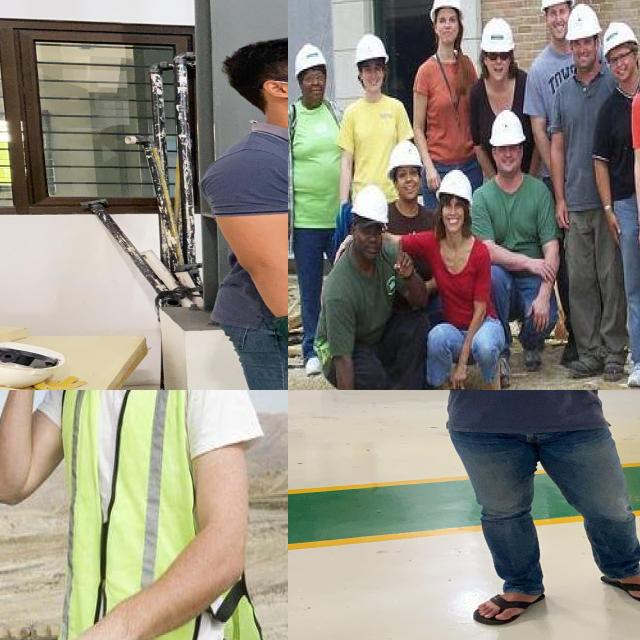face_nomask: (567, 35, 598, 66), (358, 224, 386, 256), (299, 72, 329, 100), (494, 142, 522, 170), (440, 201, 467, 228), (546, 5, 570, 35), (396, 168, 420, 198), (608, 51, 633, 78), (485, 49, 509, 74), (434, 15, 458, 40), (360, 64, 384, 88)
glasses: (606, 50, 632, 67), (269, 65, 288, 87), (486, 48, 510, 62)
hand_noglove: (28, 620, 131, 640), (602, 209, 628, 247), (528, 298, 554, 332), (391, 250, 415, 281), (532, 257, 559, 283), (552, 201, 574, 230), (448, 364, 468, 390), (288, 210, 295, 238), (635, 221, 640, 254)
head_helmet: (351, 185, 392, 225), (434, 168, 477, 206), (563, 2, 603, 42), (479, 16, 518, 54), (488, 110, 526, 149), (600, 20, 640, 56), (385, 137, 423, 172), (292, 43, 329, 76), (352, 32, 389, 64), (428, 0, 463, 21), (539, 0, 576, 10)
head_nohelmet: (221, 33, 288, 73)
person: (0, 390, 271, 640), (351, 390, 640, 624), (176, 37, 288, 390), (551, 0, 640, 388), (470, 115, 562, 378), (288, 42, 358, 381), (313, 194, 427, 390), (418, 166, 511, 390), (586, 16, 640, 390), (412, 0, 491, 197), (332, 34, 418, 205)
shoes: (566, 354, 604, 382), (517, 336, 546, 372), (474, 356, 503, 390), (598, 353, 626, 383), (300, 348, 326, 378), (423, 372, 462, 390), (626, 354, 640, 388)
vest: (57, 390, 261, 640)
